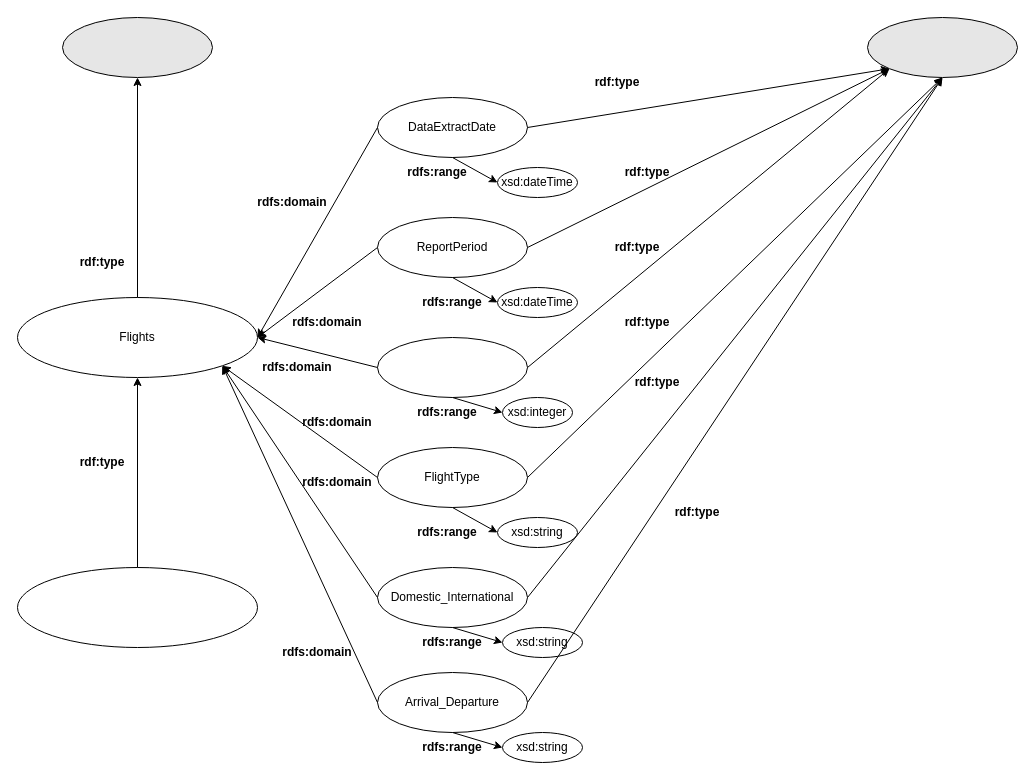
This 1035x780 diagram has some shape labels left out. The shapes that lost their labels are listed below. From the top down, each one's box as (x1, y1, x2, y2) in pixels, then its label:
(62, 16, 212, 78): rdf:Class
(866, 16, 1018, 78): rdf:Property
(376, 336, 528, 398): PassengerCount
(16, 566, 258, 648): Flight #1 (a Row in the CSV)
